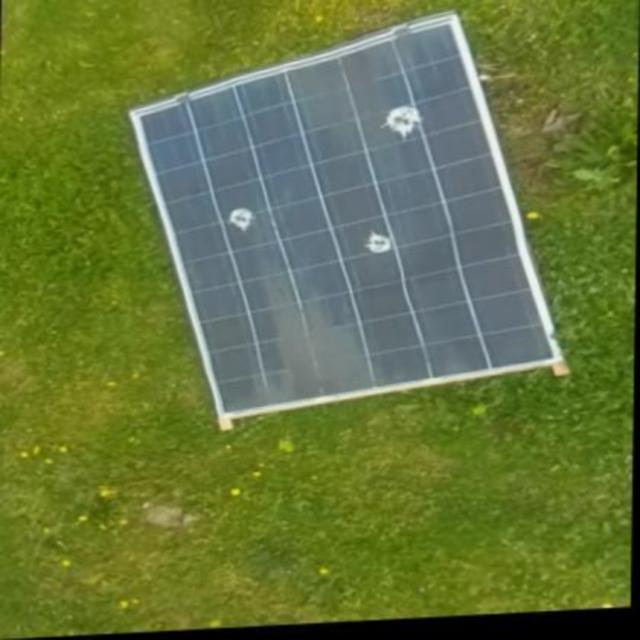soiled: (126, 14, 572, 428)
